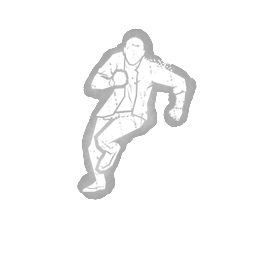dead_hard: (77, 29, 197, 200)
